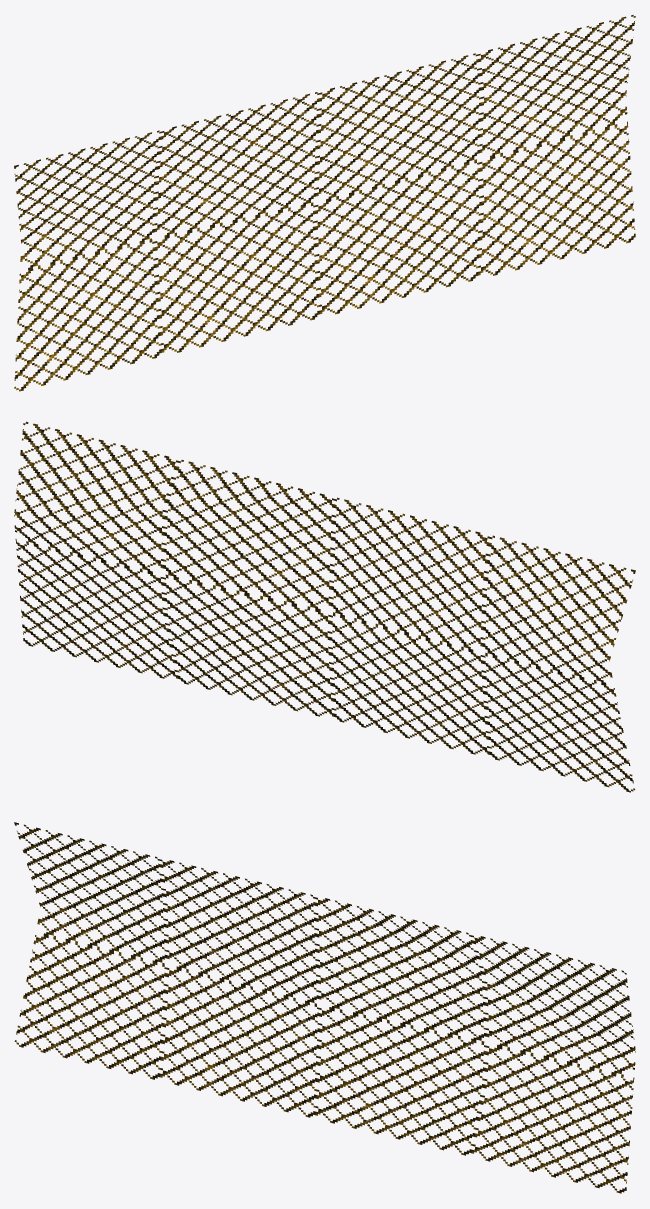
Rendered from W_A2l_xxxx_Verschoben_1833.glb.
3 renders of one model, top to bottom at view 1: azimuth 30°, elevation 25°; view 2: azimuth 150°, elevation 25°; view 3: azimuth 330°, elevation 25°, orthographic.
Parts seen in each view (by area): view 1: polySurfaceShape787; view 2: polySurfaceShape787; view 3: polySurfaceShape787.
Part boxes in pixels (box(x1,y1,x2,y2)): polySurfaceShape787: box(14, 15, 635, 391); polySurfaceShape787: box(14, 421, 635, 792); polySurfaceShape787: box(14, 822, 635, 1193).
Size of the model in its own units: 1 by 0.3486 by 0.0275.
1 material, 1 textured.
